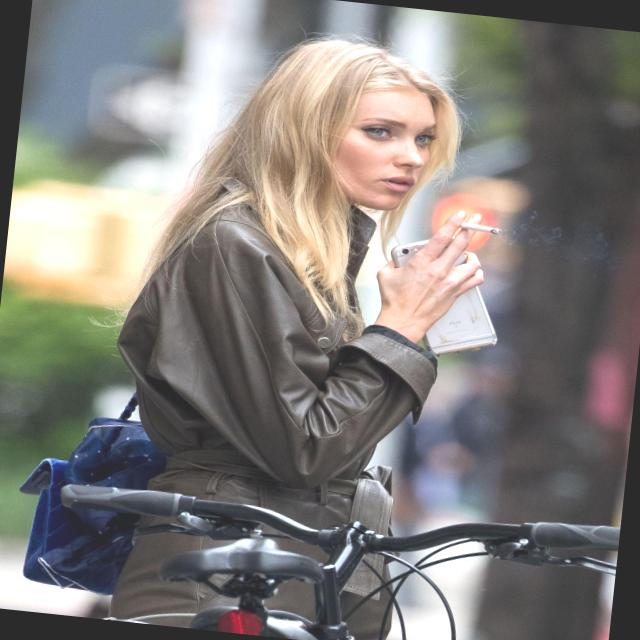cigarette: (444, 213, 520, 252)
